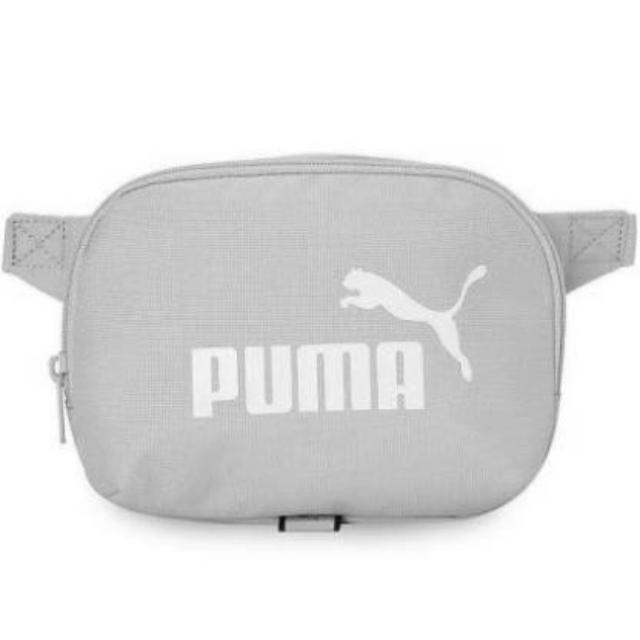PUMA_original: (165, 247, 500, 428)
